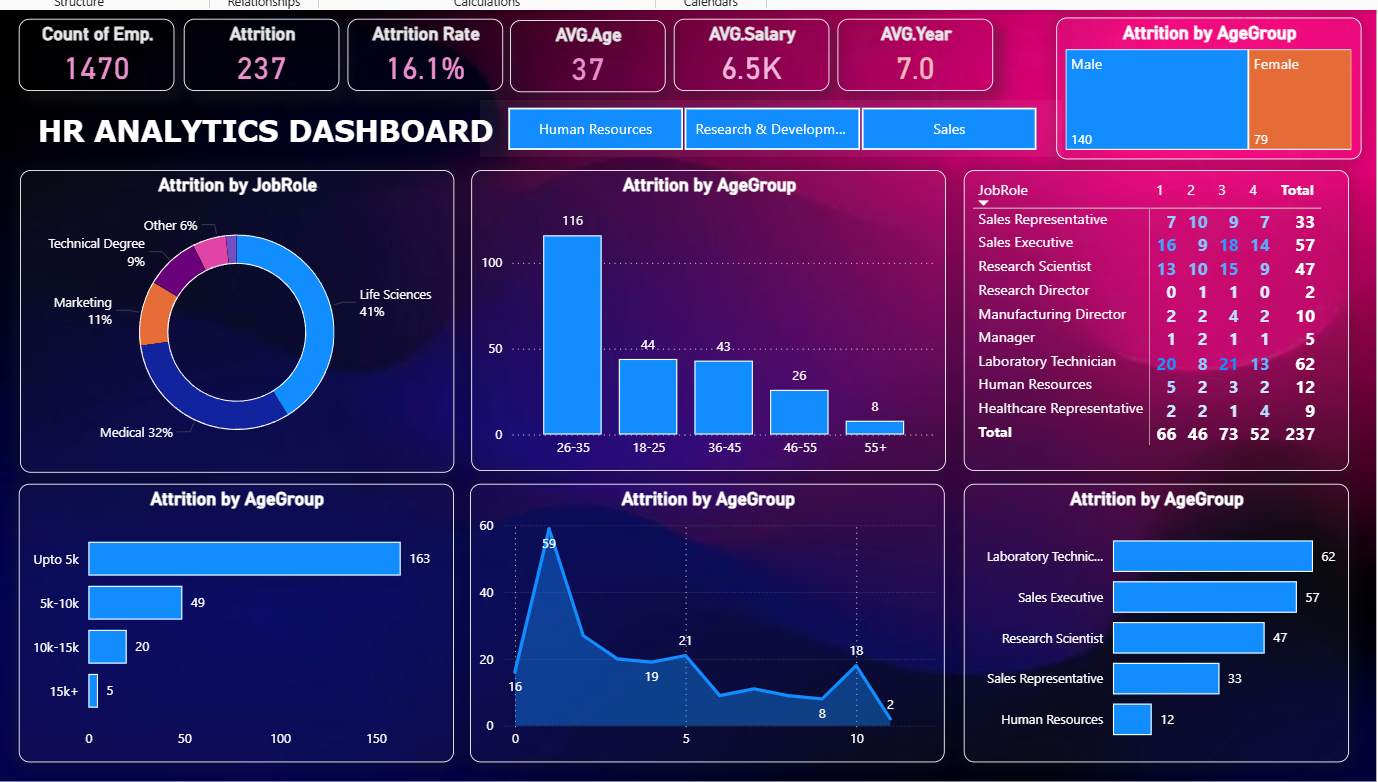

This screenshot's page, from the dashboard's own definition file:
{"tool":"powerbi","page":{"name":"Report","canvas":[1280,720],"ordinal":0},"visuals":[{"type":"card","title":"Count of Emp.","fields":{"Values":["CountNonNull(HR_Analytics.EmpID)"]},"box":[18,8.1,145,67],"z":0},{"type":"card","title":"Attrition","fields":{"Values":["Sum(HR_Analytics.Attrition_no.)"]},"box":[171,8.1,145,67],"z":1000},{"type":"card","title":"Attrition Rate","fields":{"Values":["HR_Analytics.Attrition rate"]},"box":[323,8.1,145,67],"z":2000},{"type":"card","title":"AVG.Age","fields":{"Values":["Avg(HR_Analytics.Age)"]},"box":[475,9.1,145,67],"z":3000},{"type":"card","title":"AVG.Salary","fields":{"Values":["Avg(HR_Analytics.MonthlyIncome)"]},"box":[627,8.1,145,67],"z":4000},{"type":"card","title":"AVG.Year","fields":{"Values":["Avg(HR_Analytics.YearsAtCompany)"]},"box":[779,8.1,145,67],"z":5000},{"type":"donutChart","title":"Attrition by JobRole","fields":{"Category":["HR_Analytics.EducationField","HR_Analytics.JobRole"],"Y":["CountNonNull(HR_Analytics.Attrition)"]},"box":[18.5,149.4,403.7,281.5],"z":6000},{"type":"columnChart","title":"Attrition by AgeGroup","fields":{"Category":["HR_Analytics.AgeGroup"],"Y":["Sum(HR_Analytics.Attrition_no.)"]},"box":[438.3,149.4,442,280.2],"z":7000},{"type":"pivotTable","title":"Attrition by AgeGroup","fields":{"Rows":["HR_Analytics.JobRole"],"Columns":["HR_Analytics.JobSatisfaction"],"Values":["Sum(HR_Analytics.Attrition_no.)"]},"box":[896.3,149.4,358,280.2],"z":8000},{"type":"barChart","title":"Attrition by AgeGroup","fields":{"Category":["HR_Analytics.SalarySlab"],"Y":["Sum(HR_Analytics.Attrition_no.)"]},"box":[17.3,440.7,404.9,259.3],"z":9000},{"type":"barChart","title":"Attrition by AgeGroup","fields":{"Category":["HR_Analytics.JobRole"],"Y":["Sum(HR_Analytics.Attrition_no.)"]},"box":[896.3,440.7,358,259.3],"z":9001},{"type":"areaChart","title":"Attrition by AgeGroup","fields":{"Category":["HR_Analytics.YearsAtCompany"],"Y":["Sum(HR_Analytics.Attrition_no.)"]},"box":[437,440.7,442,259.3],"z":9002},{"type":"treemap","title":"Attrition by AgeGroup","fields":{"Group":["HR_Analytics.Gender"],"Values":["Sum(HR_Analytics.Attrition_no.)"]},"box":[982.7,7.4,284,132.1],"z":9003},{"type":"slicer","fields":{"Values":["HR_Analytics.Department"]},"box":[446.9,84,542,53.1],"z":9004},{"type":"textbox","box":[18.5,90.1,456.8,46.9],"z":9005}]}

Visuals, with their boxes in screenshot pixels (x1, y1, x2, y2), scaled from the page's 1280x720 canvas onto the 1378x782 screenshot:
"Count of Emp." card: x1=19 y1=9 x2=175 y2=82
"Attrition" card: x1=184 y1=9 x2=340 y2=82
"Attrition Rate" card: x1=348 y1=9 x2=504 y2=82
"AVG.Age" card: x1=511 y1=10 x2=667 y2=83
"AVG.Salary" card: x1=675 y1=9 x2=831 y2=82
"AVG.Year" card: x1=839 y1=9 x2=995 y2=82
"Attrition by JobRole" donutChart: x1=20 y1=162 x2=455 y2=468
"Attrition by AgeGroup" columnChart: x1=472 y1=162 x2=948 y2=467
"Attrition by AgeGroup" pivotTable: x1=965 y1=162 x2=1350 y2=467
"Attrition by AgeGroup" barChart: x1=19 y1=479 x2=455 y2=760
"Attrition by AgeGroup" barChart: x1=965 y1=479 x2=1350 y2=760
"Attrition by AgeGroup" areaChart: x1=470 y1=479 x2=946 y2=760
"Attrition by AgeGroup" treemap: x1=1058 y1=8 x2=1364 y2=152
slicer - HR_Analytics.Department: x1=481 y1=91 x2=1065 y2=149
textbox: x1=20 y1=98 x2=512 y2=149
